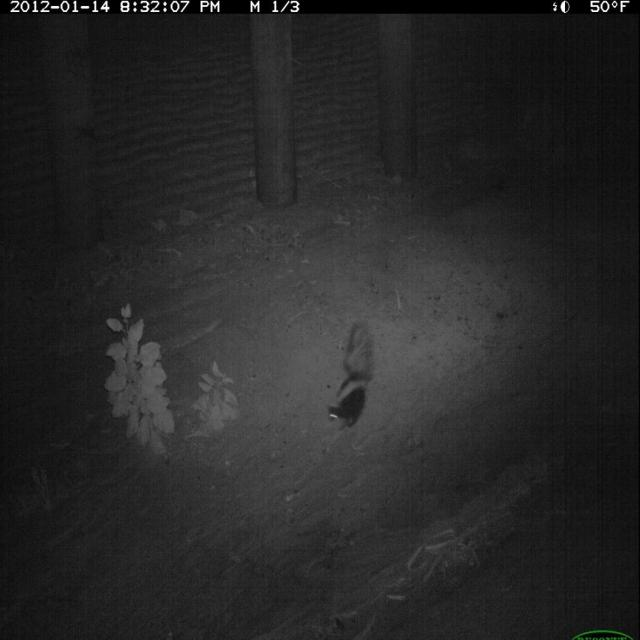skunk: (324, 317, 379, 439)
